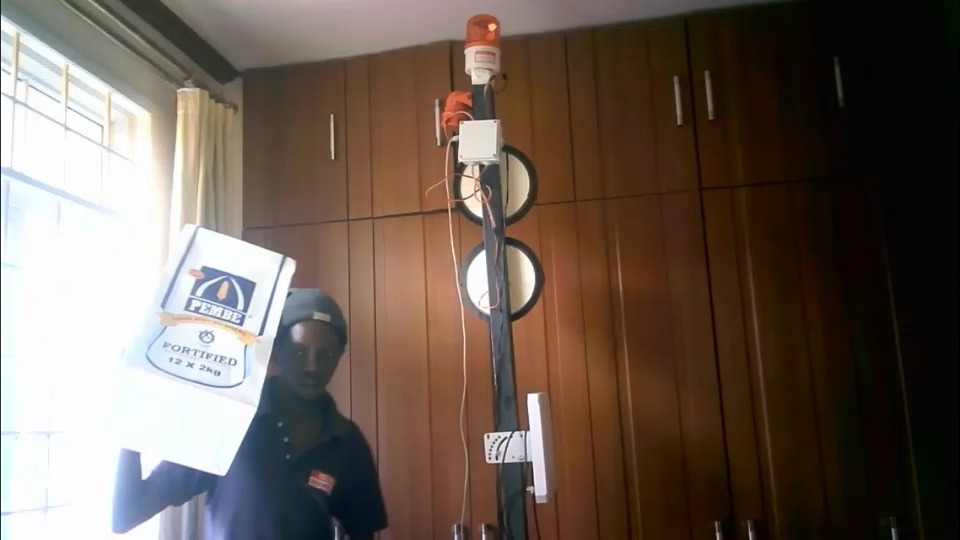wheat_flour_blue_label: (110, 223, 295, 475)
